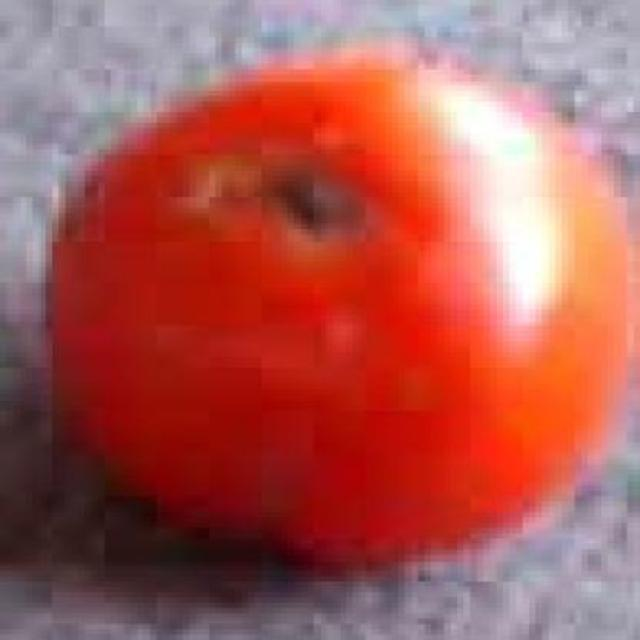tomato: (50, 61, 628, 570)
